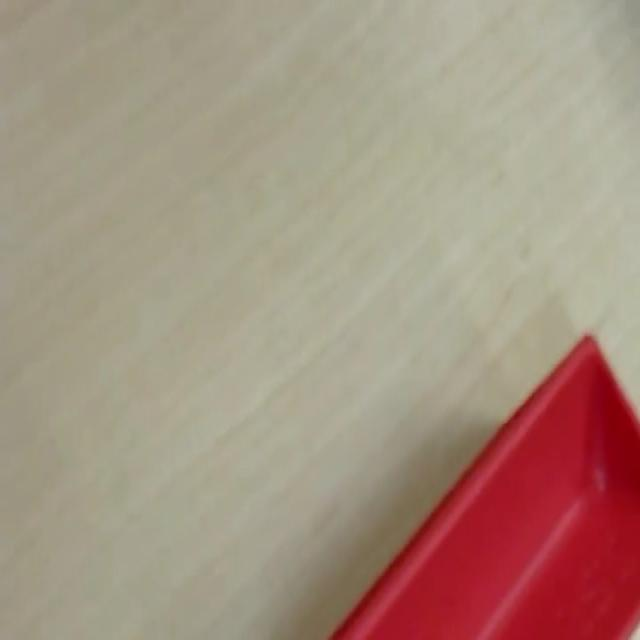red_block: (327, 330, 639, 638)
